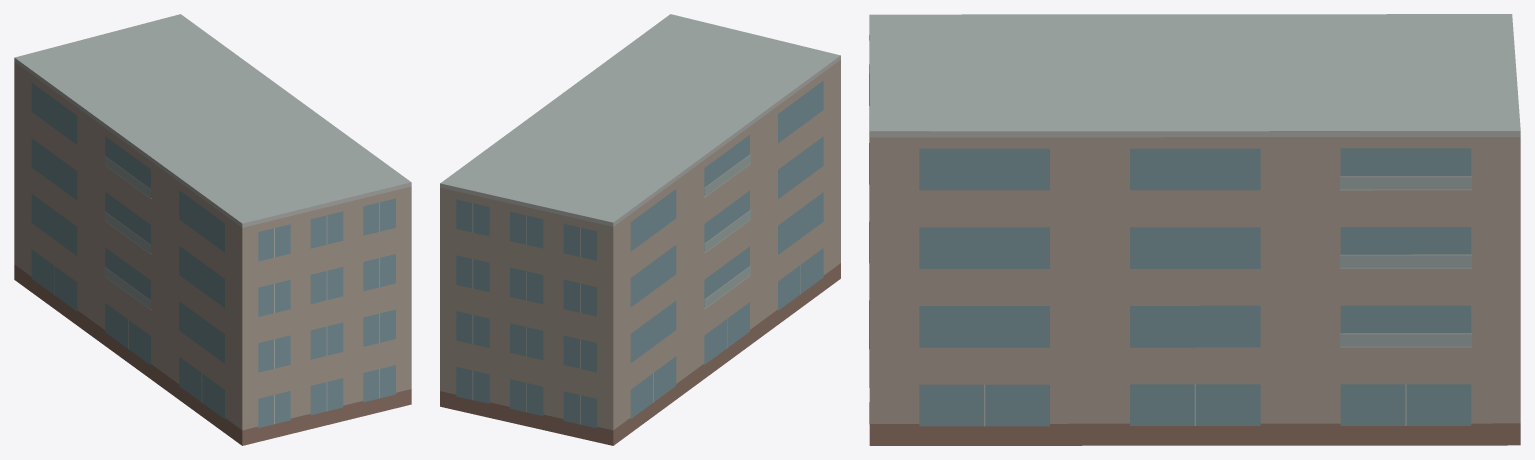
The model's file is survey-upis-32706666.glb.
The picture shows the model from 3 angles, left to right: view 1: azimuth 30°, elevation 25°; view 2: azimuth 150°, elevation 25°; view 3: azimuth 270°, elevation 25°; orthographic projection. The views are drawn at different scales.
Parts seen in each view (by area): view 1: survey-upis-32706666.tmp; view 2: survey-upis-32706666.tmp; view 3: survey-upis-32706666.tmp.
Part boxes in pixels (left/top/right/bottom): survey-upis-32706666.tmp: left=14, top=14, right=411, bottom=445; survey-upis-32706666.tmp: left=440, top=14, right=840, bottom=445; survey-upis-32706666.tmp: left=869, top=14, right=1520, bottom=445.
Bounding box in the file's own units: 10.36 × 12.9 × 24.24.
